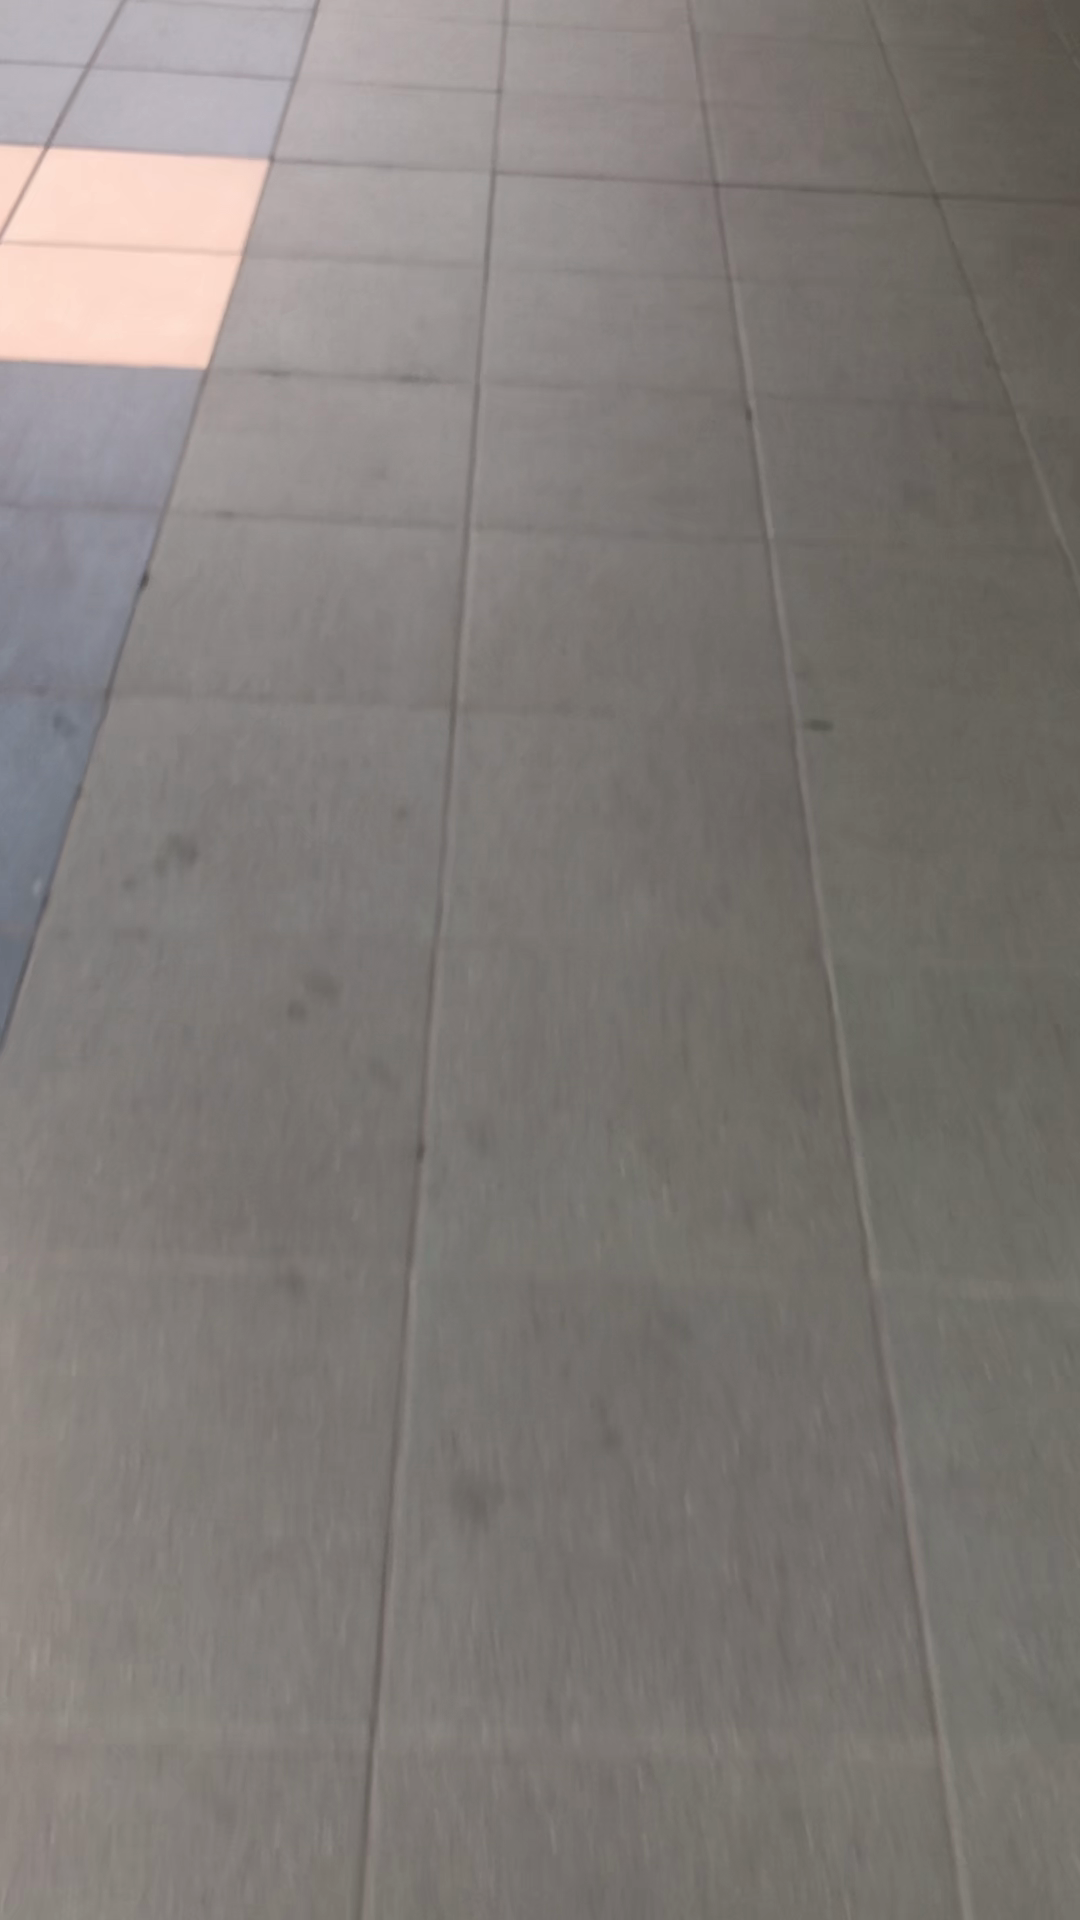Stain: (434, 1385, 663, 1538), (109, 818, 224, 905), (129, 545, 175, 607)
